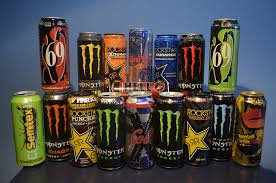can: (31, 2, 77, 89), (13, 87, 51, 167), (68, 91, 101, 173), (186, 91, 217, 175), (235, 92, 265, 171), (98, 85, 124, 171), (213, 19, 245, 88), (158, 82, 181, 172), (158, 35, 185, 95), (130, 29, 155, 79), (81, 26, 104, 80), (107, 30, 128, 85), (183, 33, 205, 82)
